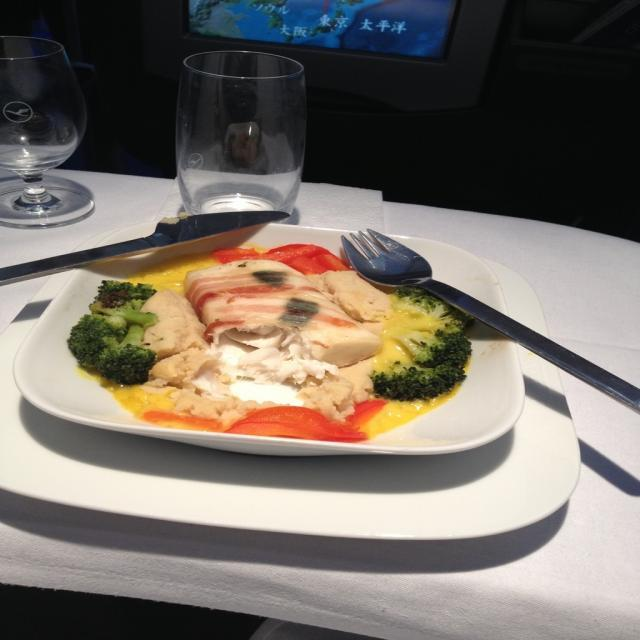ceramic plate: (2, 198, 556, 472)
